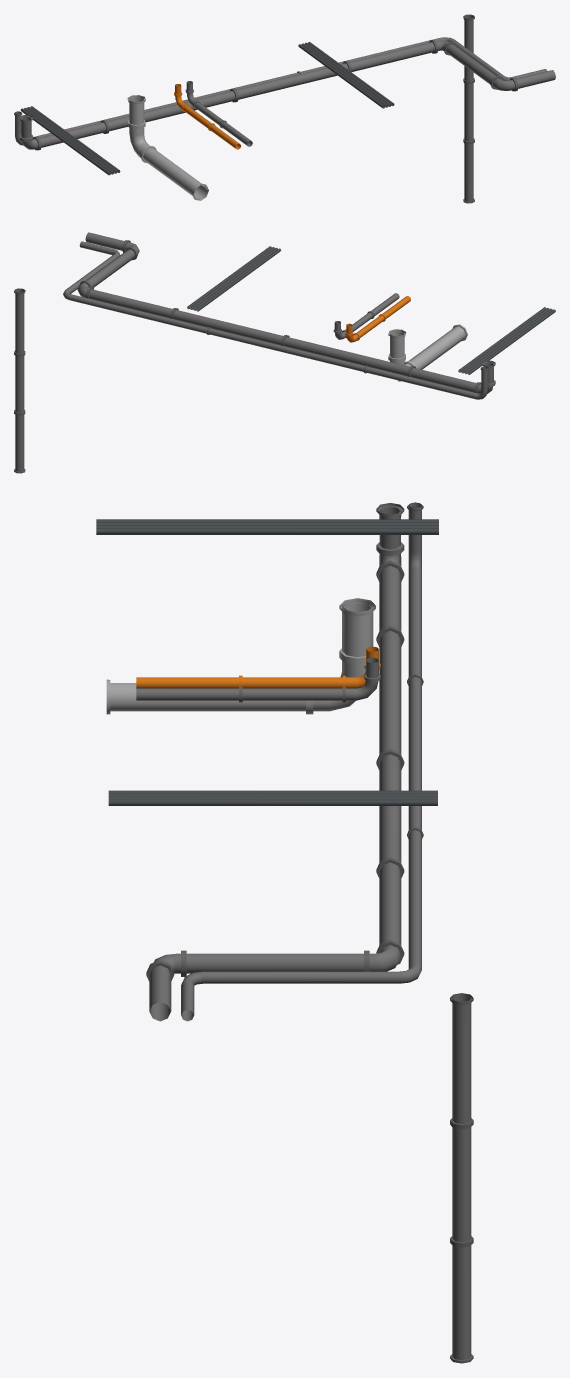
Rendered from SM_H_Building_Tide_Bathhouse_05_ATLAS.fbx.
The picture shows the model from 3 angles, top to bottom: view 1: azimuth 30°, elevation 25°; view 2: azimuth 150°, elevation 25°; view 3: azimuth 270°, elevation 25°; orthographic projection. The views are drawn at different scales.
Parts seen in each view (by area): view 1: SM_H_Building_Tide_Bathhouse_05_ATLAS; view 2: SM_H_Building_Tide_Bathhouse_05_ATLAS; view 3: SM_H_Building_Tide_Bathhouse_05_ATLAS.
Boxes of the visible parts, left/top/right/bottom form: SM_H_Building_Tide_Bathhouse_05_ATLAS: left=14, top=14, right=555, bottom=203; SM_H_Building_Tide_Bathhouse_05_ATLAS: left=14, top=232, right=555, bottom=473; SM_H_Building_Tide_Bathhouse_05_ATLAS: left=96, top=502, right=473, bottom=1363.
Size of the model in its own units: 2430 by 856 by 1028.
